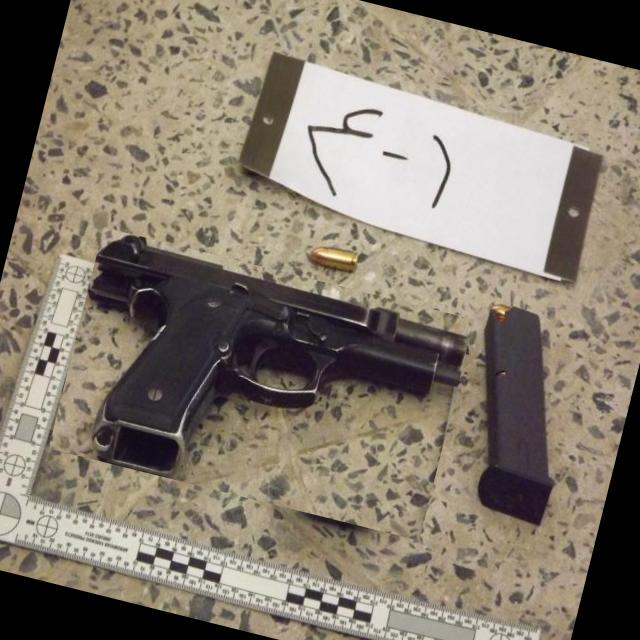Gun: (89, 237, 466, 475)
